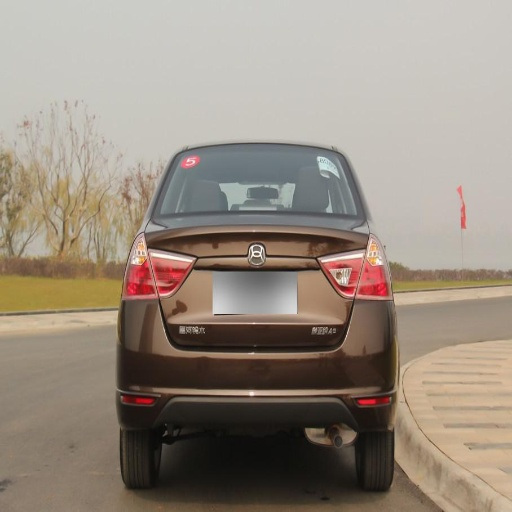back_bumper: (121, 297, 397, 434)
tailgate: (149, 213, 365, 344)
trunk: (166, 313, 243, 352)
